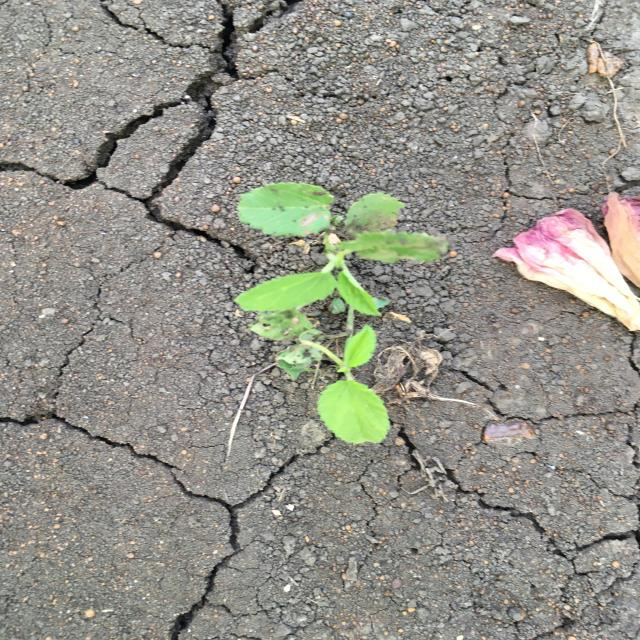PricklySida: (234, 178, 452, 448)
